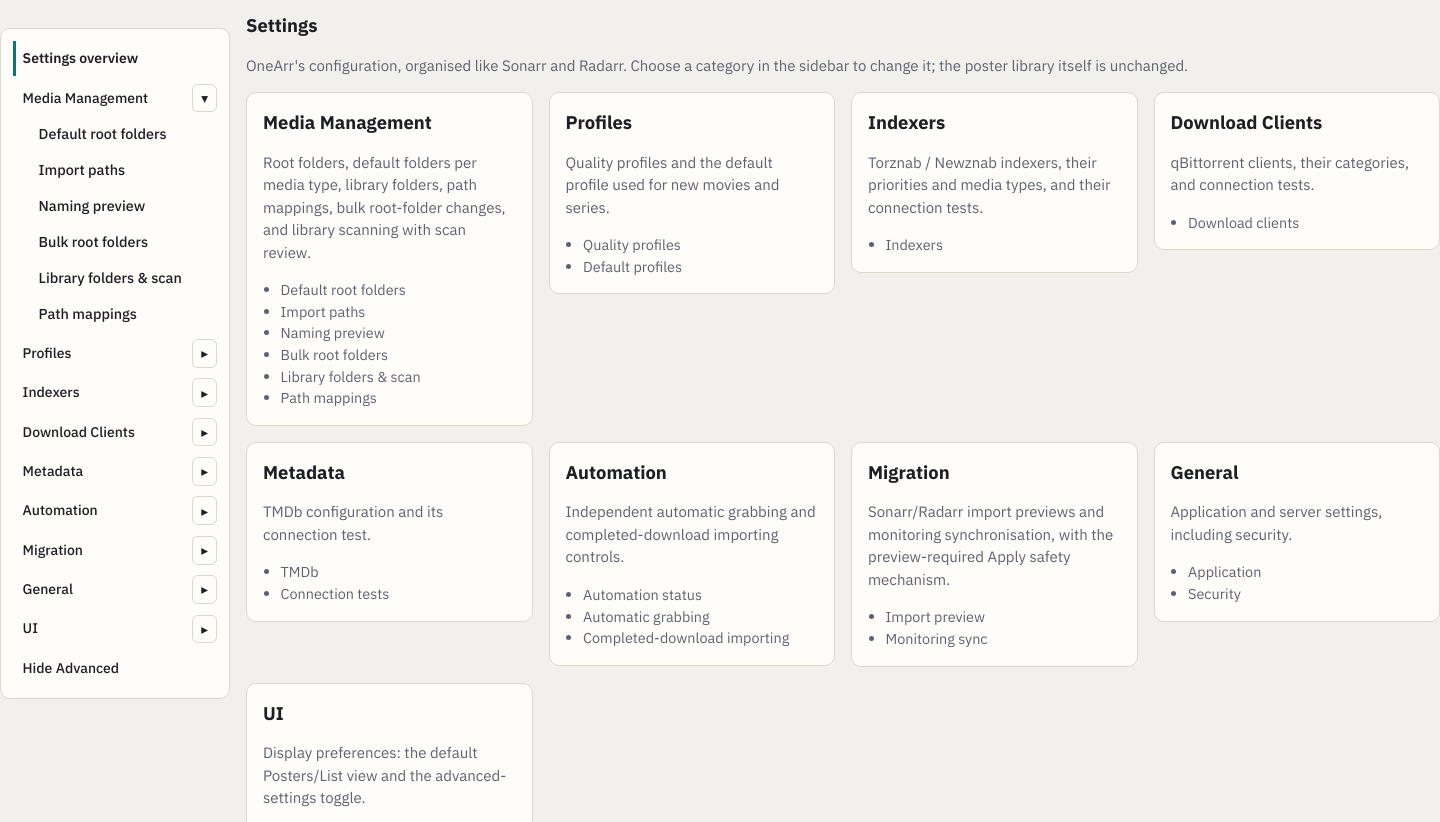
Test: settings navigation › highlights the active sidebar section and expands its subsections
The image size is (1440, 822).
Expected: the heading "Settings" is shown, [246, 13, 318, 37]
Click the button "Profiles".
click(101, 353)  # box [13, 336, 188, 371]
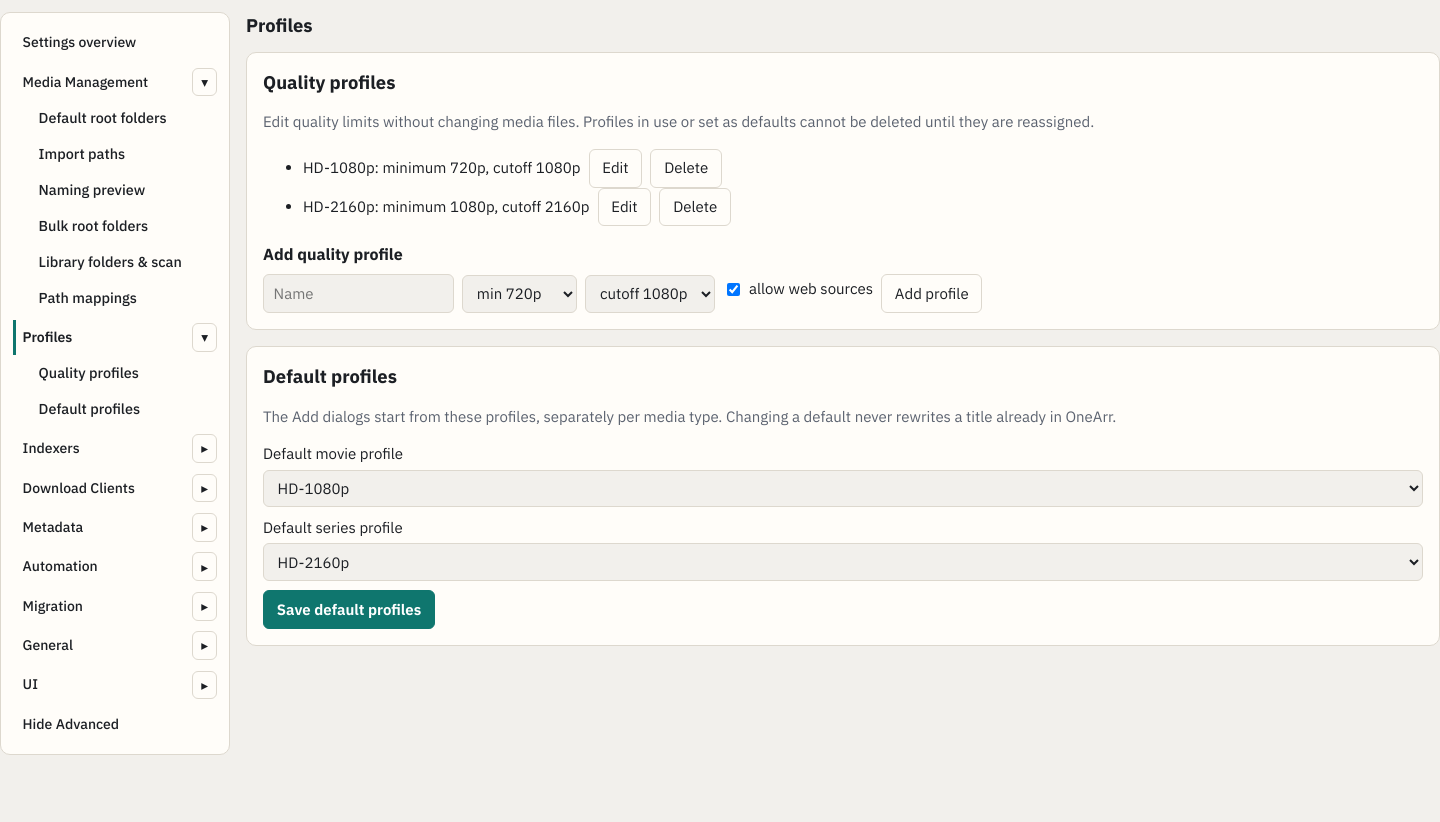
Expected: the heading "Quality profiles" is shown, [263, 70, 396, 94]
Now the button "Default profiles" is shown, box [29, 391, 150, 427]
